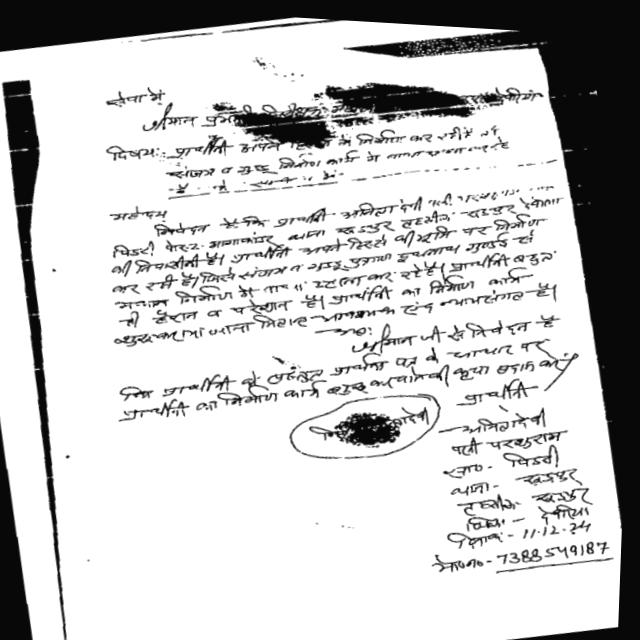fingerprint: (329, 399, 411, 457)
